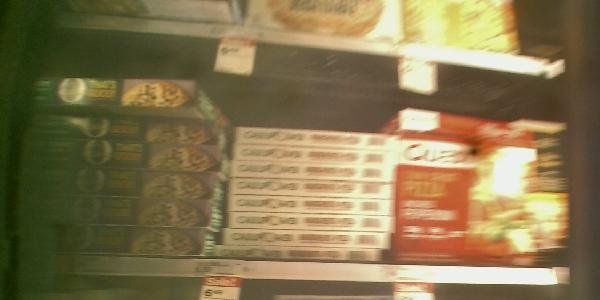pizza: (401, 137, 542, 265)
pizza1: (392, 108, 552, 149), (23, 78, 193, 111), (25, 226, 209, 256), (33, 197, 222, 226), (26, 144, 221, 171), (224, 209, 395, 236), (28, 172, 219, 195), (20, 123, 220, 144), (231, 177, 391, 203), (219, 227, 389, 250), (232, 145, 394, 169), (236, 195, 398, 219), (233, 161, 396, 184), (233, 127, 402, 149), (212, 246, 380, 264)
